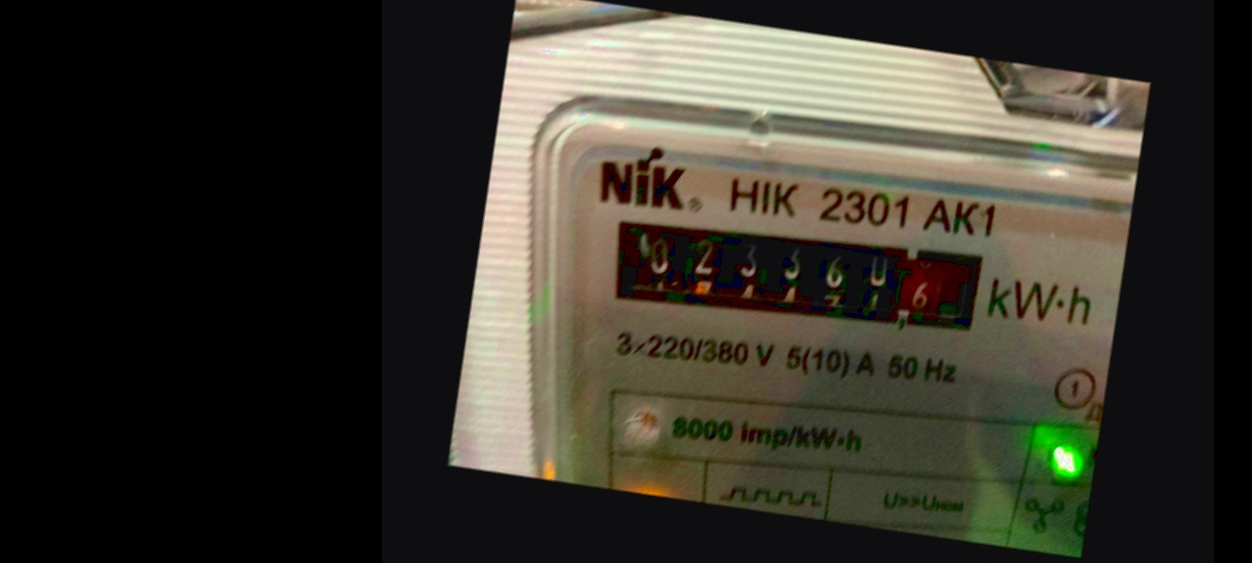0: (643, 232, 674, 278), (864, 250, 892, 289)
2: (688, 233, 719, 276)
3: (777, 242, 804, 283), (735, 238, 761, 280)
6: (818, 248, 849, 292), (907, 275, 933, 314)
screen: (584, 186, 998, 361)
